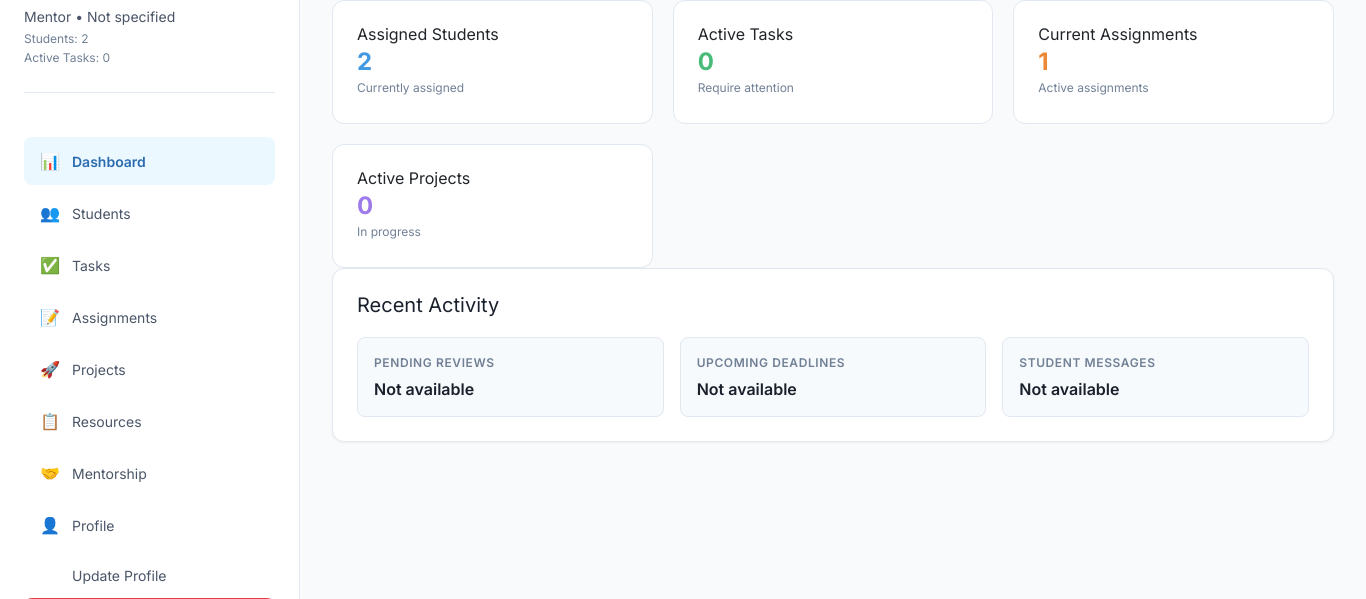
Test: mentor can change selected students for Assignments
Later steps or results of the test are not shown.
Step 1. Click the button "📝 Assignments" → (150, 317), box [24,293,275,341]
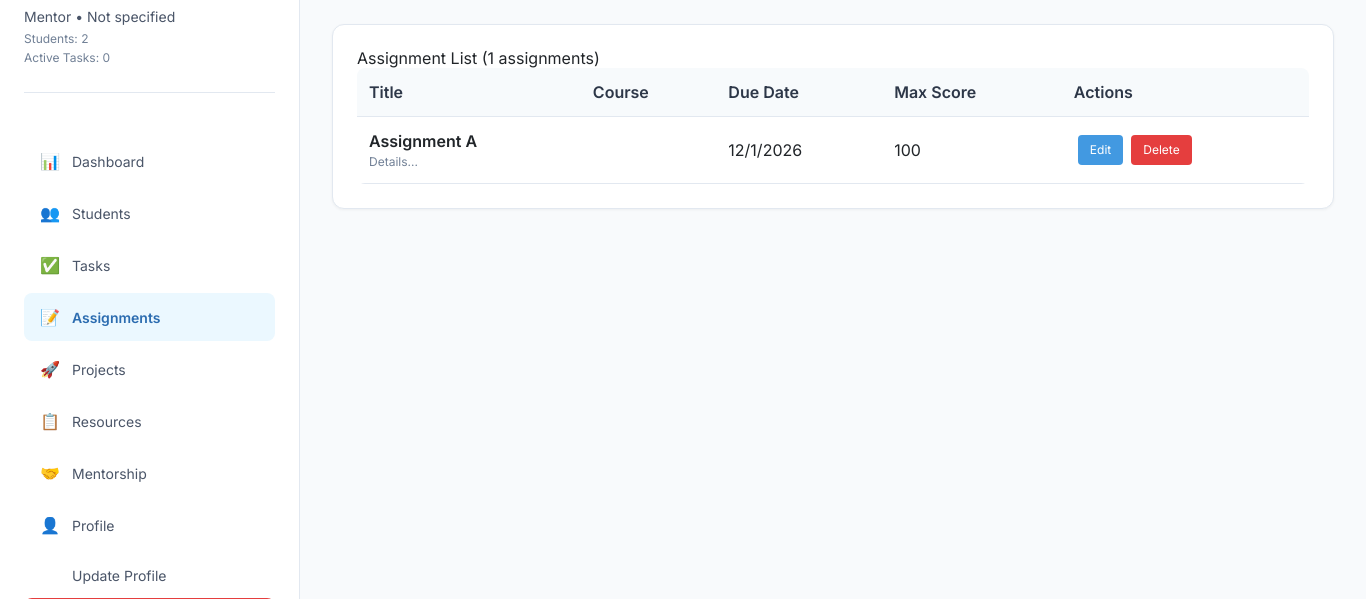
Now the text "Assignment A" is shown, box [369,131,477,151]
Step 2. Click the button "Edit" → (1101, 150), box [1078,135,1123,165]
(page scrolled)
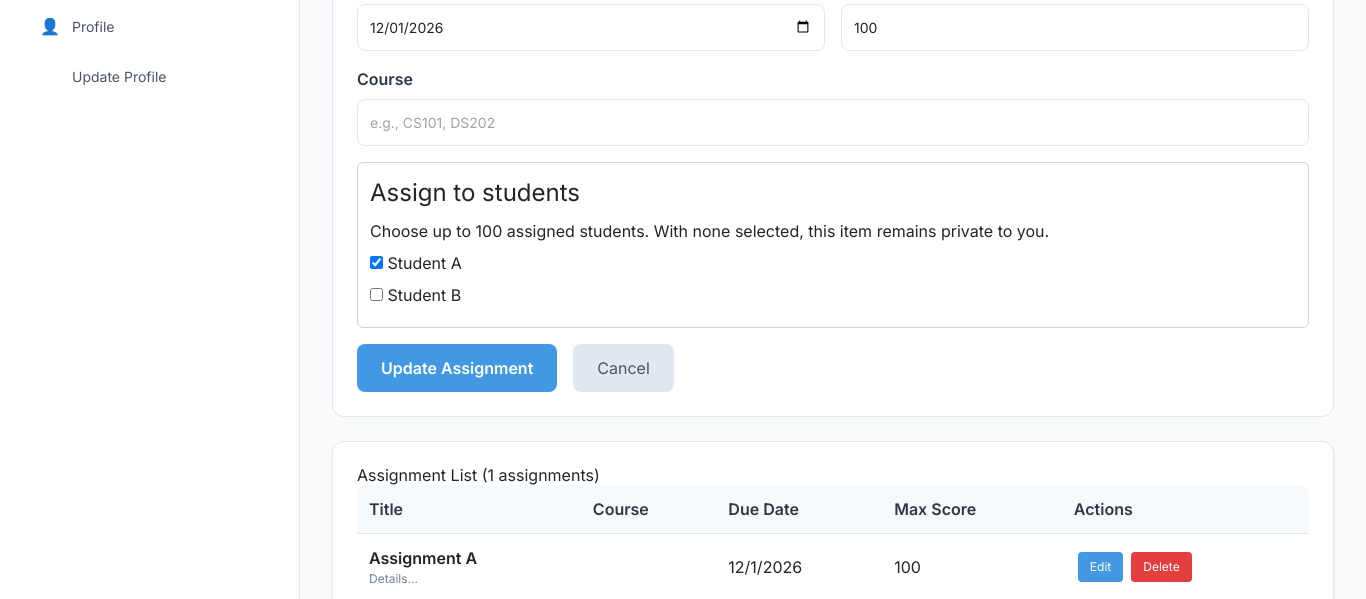
Now the checkbox labelled "Student A" is checked, box [370,256,383,269]
